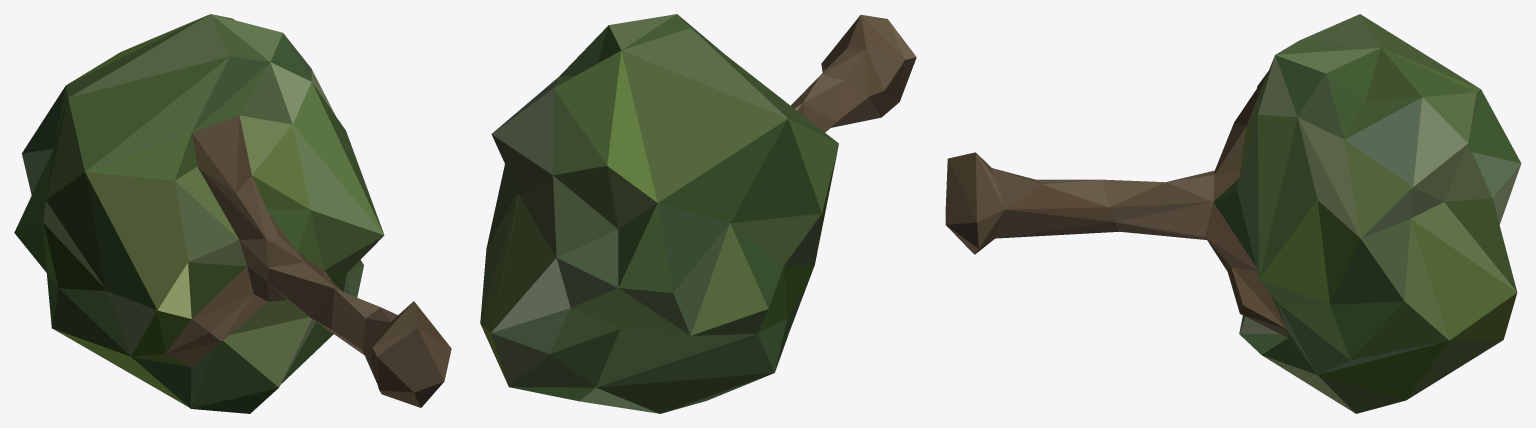
File: Tree_D-DetailA.fbx
The picture shows the model from 3 angles, left to right: view 1: azimuth 30°, elevation 25°; view 2: azimuth 150°, elevation 25°; view 3: azimuth 270°, elevation 25°; orthographic projection. The views are drawn at different scales.
Parts seen in each view (by area): view 1: Tree_D-DetailA; view 2: Tree_D-DetailA; view 3: Tree_D-DetailA.
Boxes of the visible parts, bbox=[...] form: Tree_D-DetailA: bbox=[14, 14, 451, 413]; Tree_D-DetailA: bbox=[480, 14, 916, 413]; Tree_D-DetailA: bbox=[945, 14, 1521, 413].
Size of the model in its own units: 693 by 771 by 1179.
